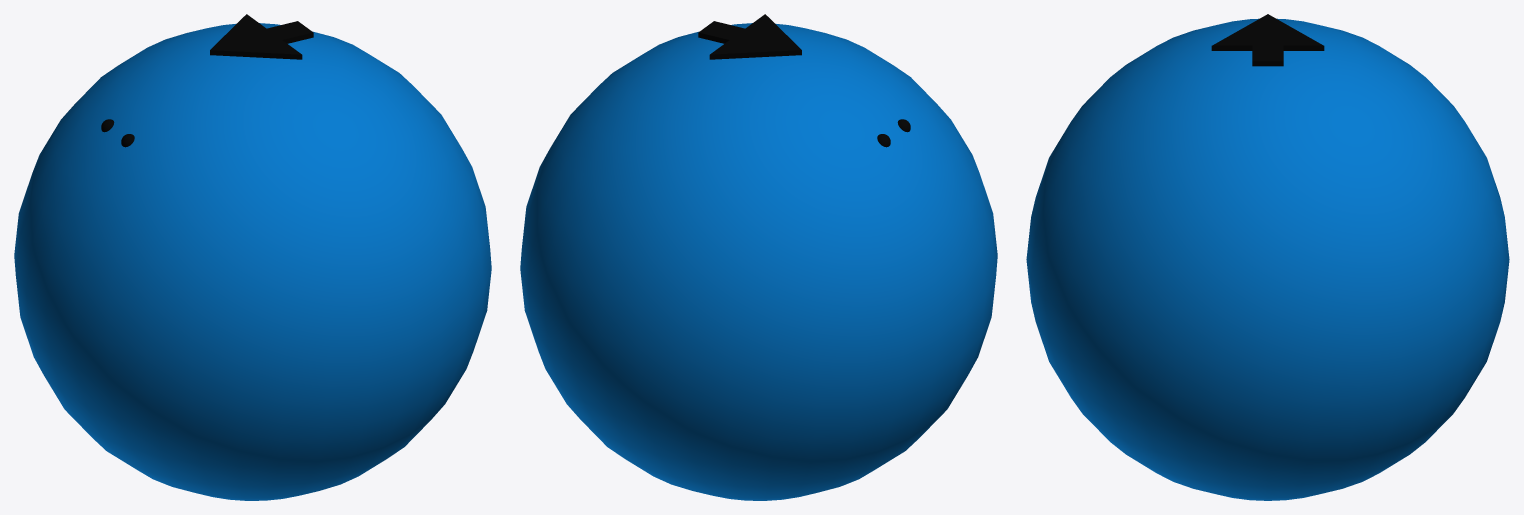
The picture shows the model from 3 angles, left to right: view 1: azimuth 30°, elevation 25°; view 2: azimuth 150°, elevation 25°; view 3: azimuth 270°, elevation 25°; orthographic projection.
Parts seen in each view (by area): view 1: Cube.021_Cube.009_Material.006, Cube.021_Cube.009_SVGMat; view 2: Cube.021_Cube.009_Material.006, Cube.021_Cube.009_SVGMat; view 3: Cube.021_Cube.009_Material.006, Cube.021_Cube.009_SVGMat.
Part boxes in pixels (x1,y1,x2,y2): Cube.021_Cube.009_Material.006: [14, 23, 491, 500]; Cube.021_Cube.009_SVGMat: [101, 14, 313, 147]; Cube.021_Cube.009_Material.006: [520, 23, 997, 500]; Cube.021_Cube.009_SVGMat: [698, 14, 910, 147]; Cube.021_Cube.009_Material.006: [1026, 18, 1509, 500]; Cube.021_Cube.009_SVGMat: [1211, 14, 1324, 66].
Size of the model in its own units: 0.4999 by 0.5016 by 0.4999.
